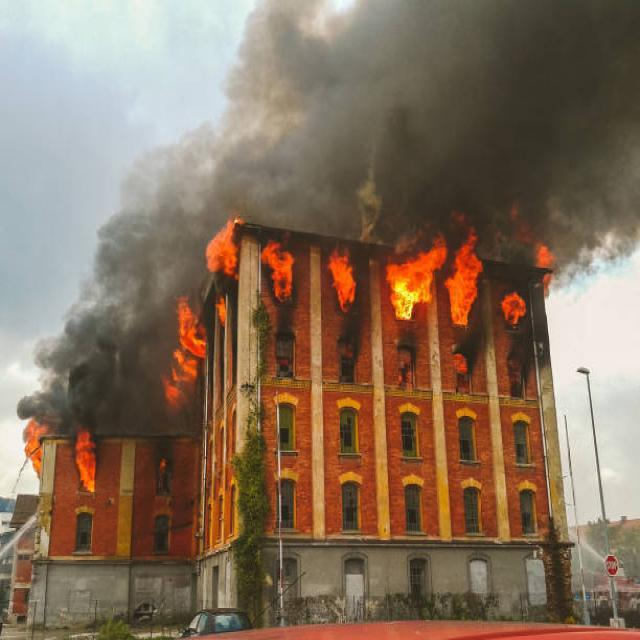Fire: (388, 234, 483, 328), (157, 296, 206, 398), (201, 222, 244, 299), (259, 246, 300, 307), (320, 254, 352, 314), (524, 237, 558, 283), (79, 435, 99, 495), (26, 428, 50, 471), (503, 287, 528, 320)
Smoke: (225, 0, 639, 284), (68, 216, 220, 424)
